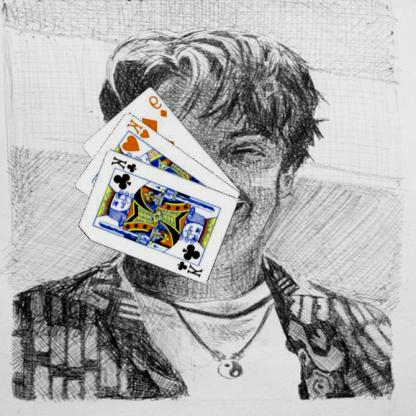9D: (148, 92, 170, 118)
KC: (110, 154, 140, 178), (176, 254, 206, 278)
KH: (125, 116, 153, 140)
